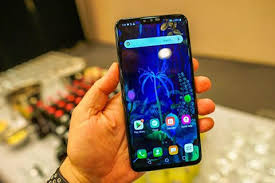lg: (111, 10, 204, 174)
